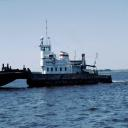tugboat: (27, 36, 115, 91)
